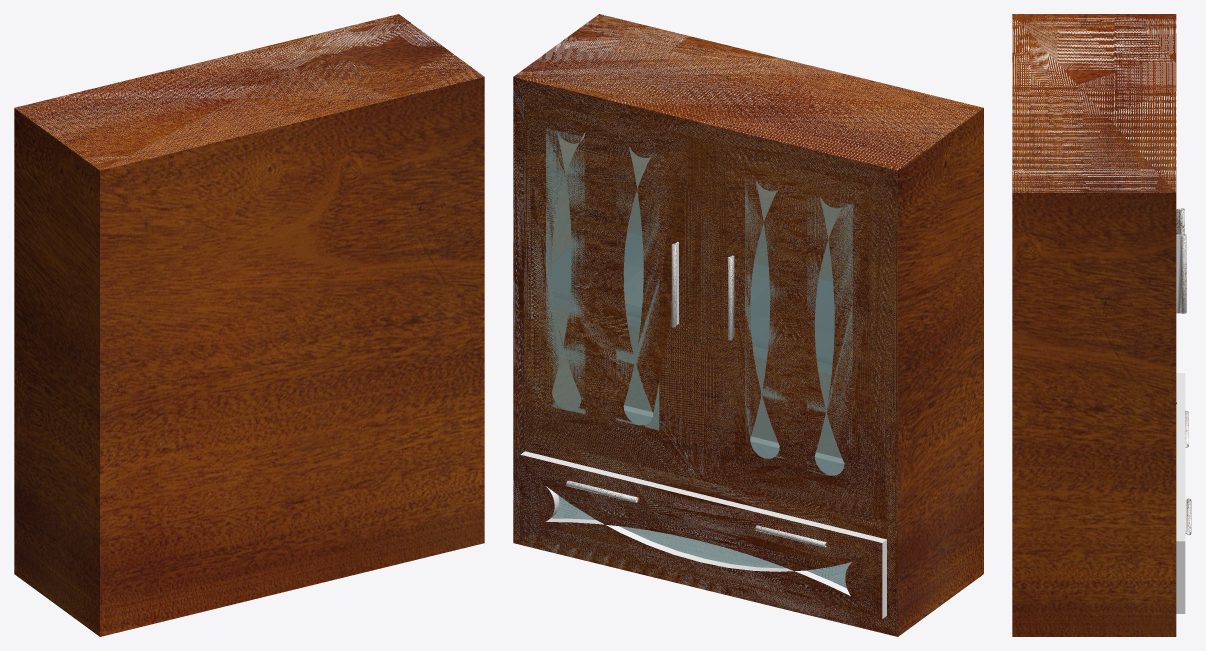
3 renders of one model, left to right at view 1: azimuth 30°, elevation 25°; view 2: azimuth 150°, elevation 25°; view 3: azimuth 270°, elevation 25°, orthographic. The views are drawn at different scales.
Parts seen in each view (by area): view 1: mesh24_mesh24-geometry; view 2: mesh24_mesh24-geometry, mesh2_mesh2-geometry, mesh28_mesh28-geometry, mesh25_mesh25-geometry, mesh26_mesh26-geometry, mesh27_mesh27-geometry, mesh18_mesh18-geometry, mesh6_mesh6-geometry, mesh8_mesh8-geometry; view 3: mesh24_mesh24-geometry, mesh8_mesh8-geometry.
Part boxes in pixels (<box>): mesh24_mesh24-geometry: <box>14,14,484,636</box>; mesh24_mesh24-geometry: <box>513,14,983,636</box>; mesh2_mesh2-geometry: <box>523,88,885,525</box>; mesh28_mesh28-geometry: <box>546,128,585,414</box>; mesh25_mesh25-geometry: <box>807,195,852,478</box>; mesh26_mesh26-geometry: <box>745,179,787,458</box>; mesh27_mesh27-geometry: <box>616,144,659,430</box>; mesh18_mesh18-geometry: <box>552,233,887,389</box>; mesh6_mesh6-geometry: <box>559,138,841,238</box>; mesh8_mesh8-geometry: <box>671,241,678,327</box>; mesh24_mesh24-geometry: <box>1012,14,1185,636</box>; mesh8_mesh8-geometry: <box>1176,234,1186,313</box>.
Size of the model in its own units: 0.6299 by 0.7295 by 0.2666.
